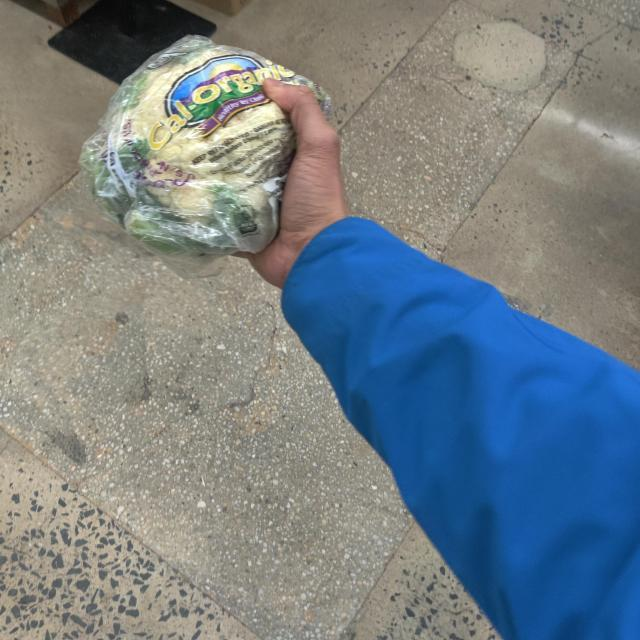Cauliflower: (75, 28, 332, 266)
